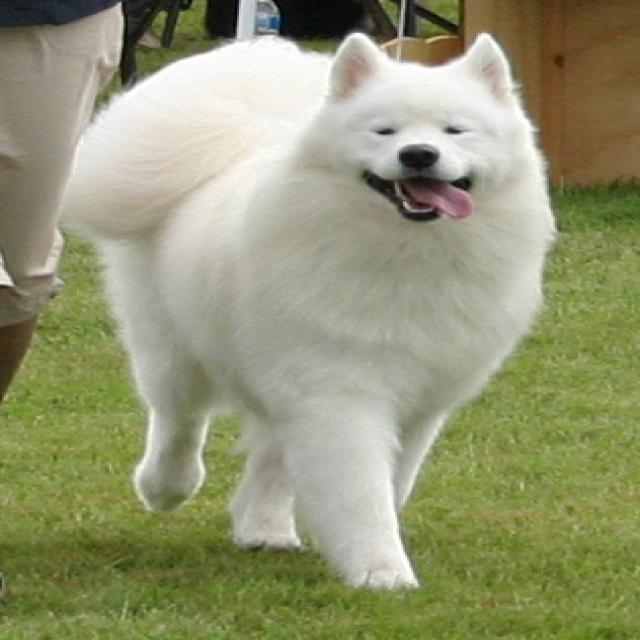dog-samoyed: (38, 20, 567, 599)
